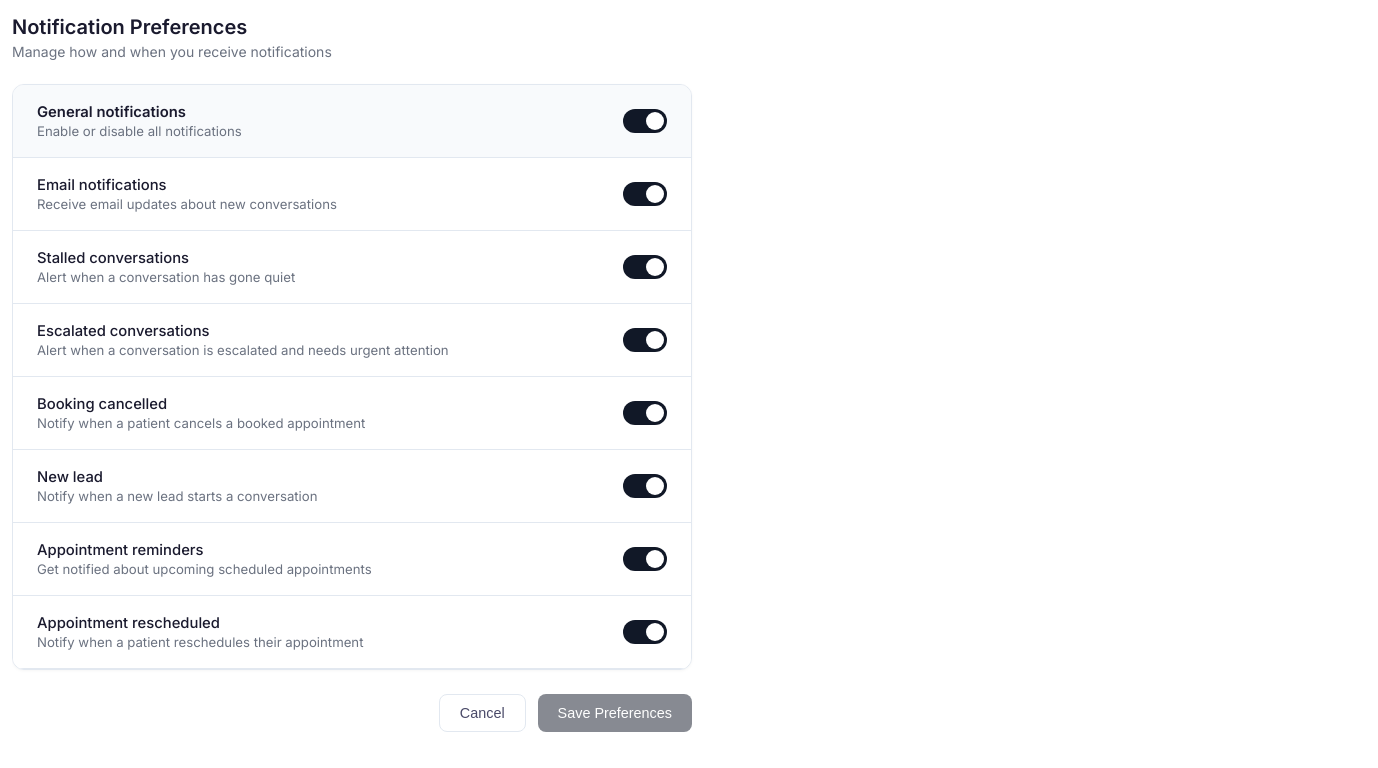
Test: NotificationPreferences › shows success toast after saving
Click the switch named "Email notifications".
click(645, 194)  # box [623,182,667,206]
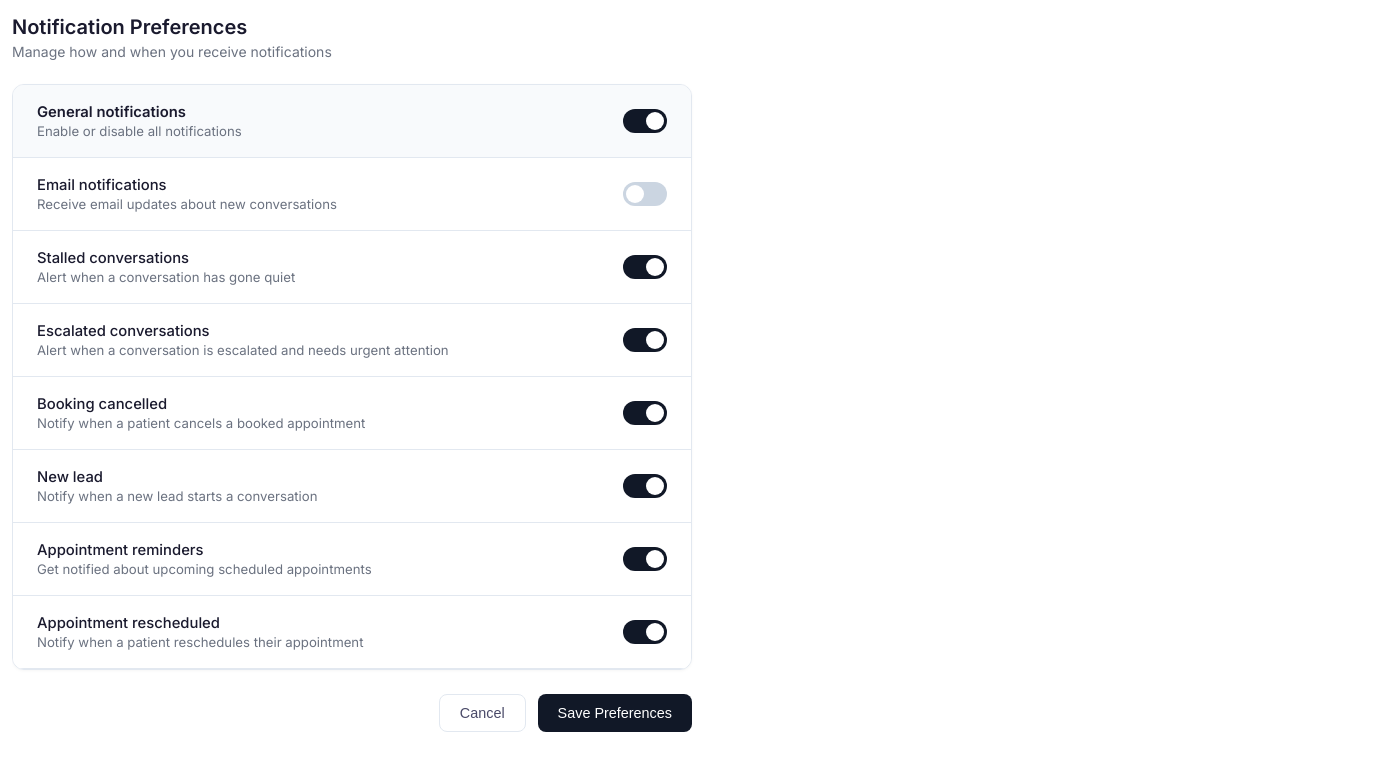
Click the button "Save Preferences".
click(615, 713)  # box [538,694,692,732]
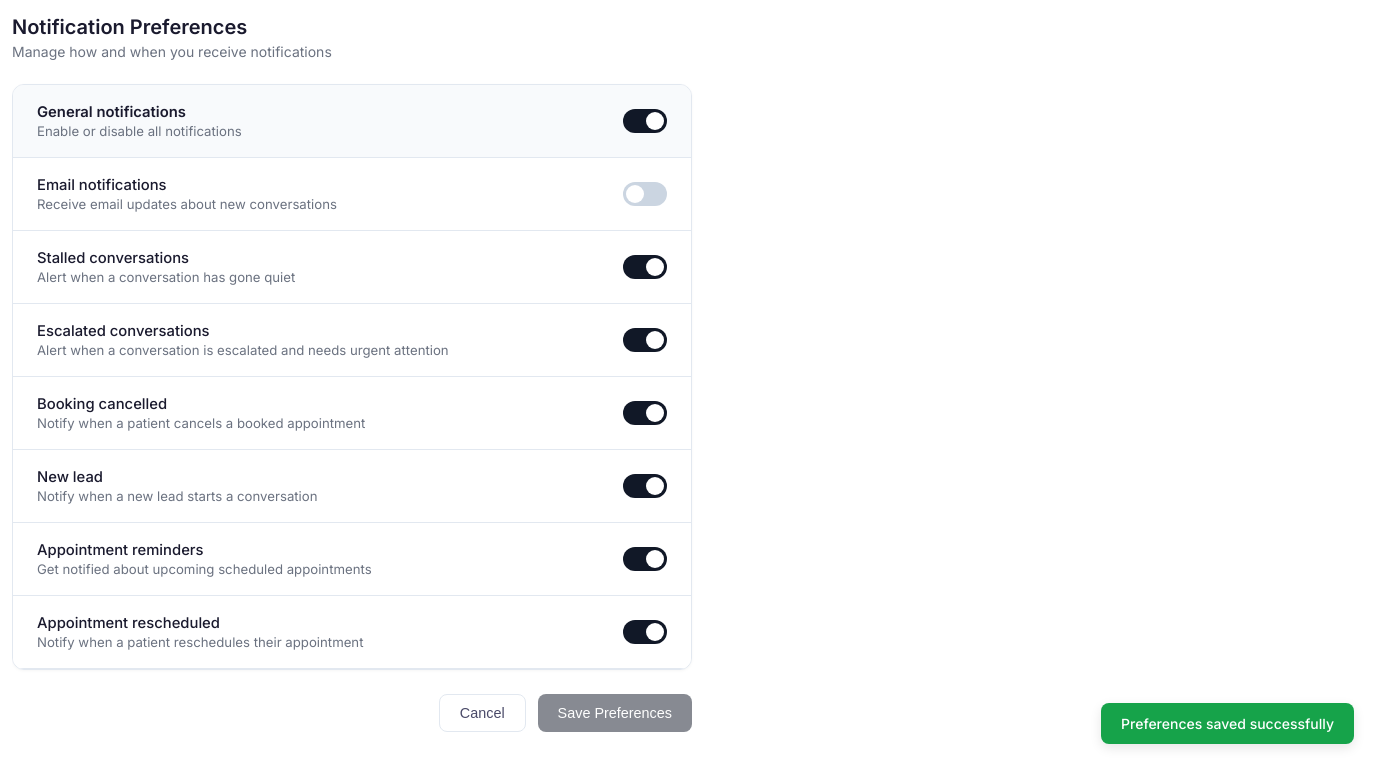
expect the text "Preferences saved successfully" is shown: met, box [1101,703,1354,744]
